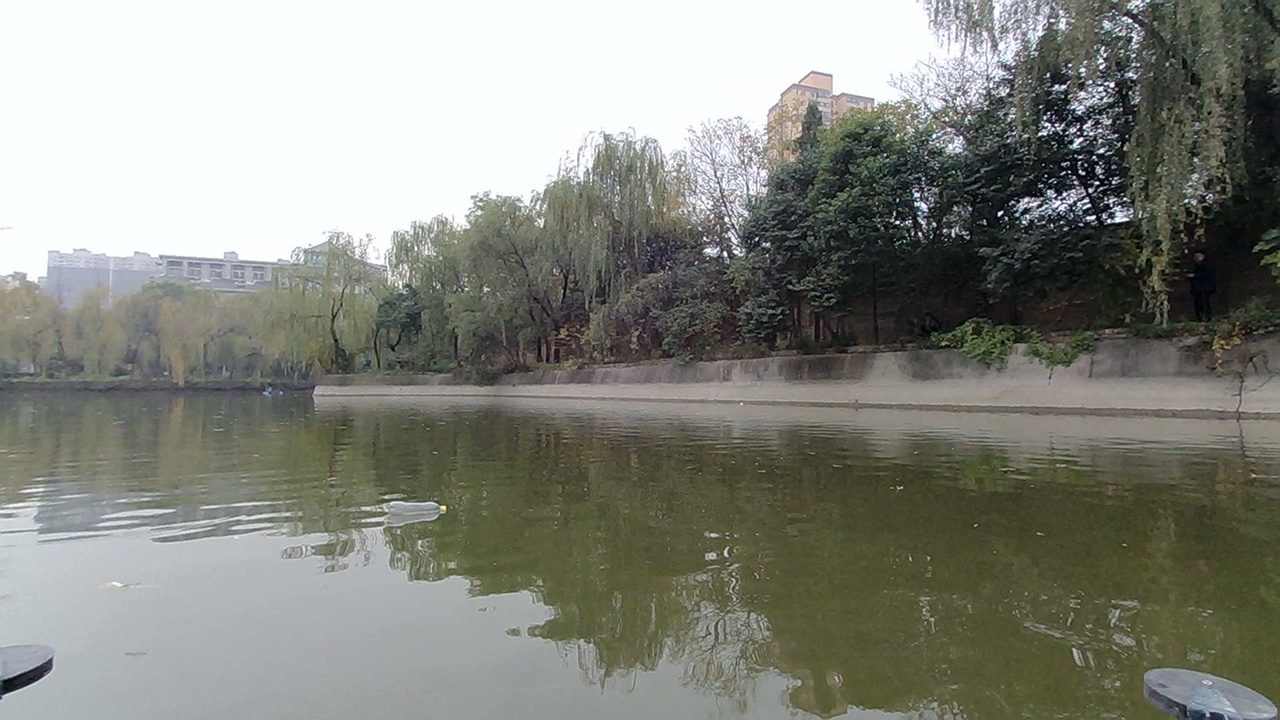bottle: (365, 482, 457, 537)
